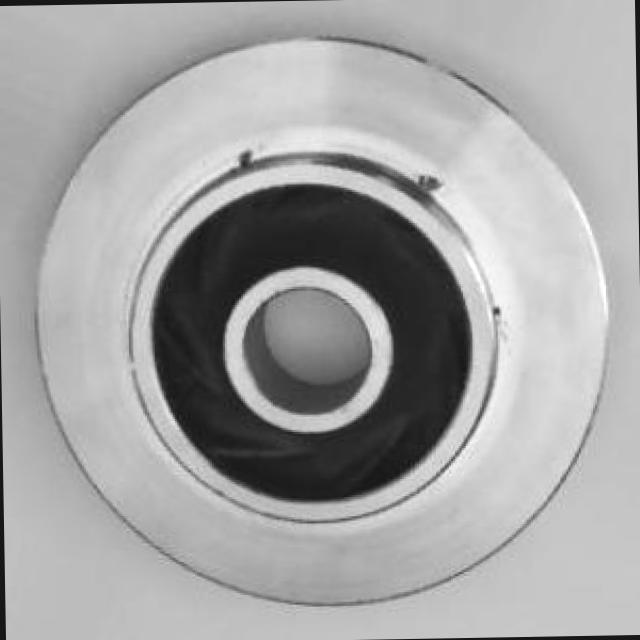Defect: (411, 166, 448, 200)
